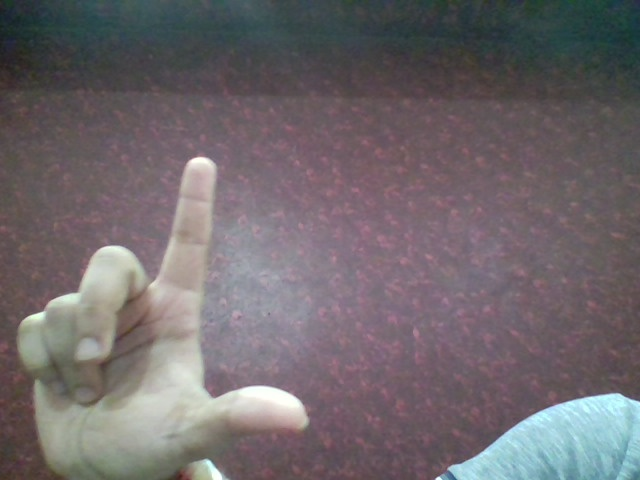l: (9, 150, 321, 472)
